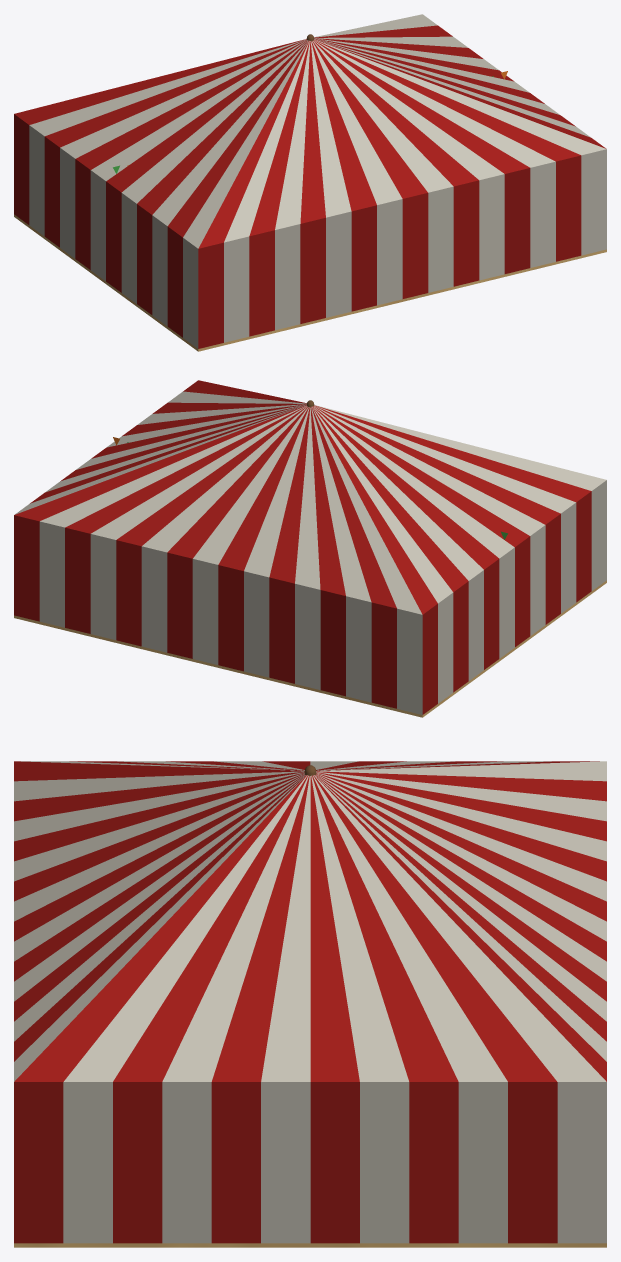
Rendered from AgilityInside.glb.
The picture shows the model from 3 angles, top to bottom: view 1: azimuth 30°, elevation 25°; view 2: azimuth 150°, elevation 25°; view 3: azimuth 270°, elevation 25°; orthographic projection. The views are drawn at different scales.
Parts seen in each view (by area): view 1: CanvasIn, Floor; view 2: CanvasIn, Floor; view 3: CanvasIn, Floor.
Part boxes in pixels (x1,y1,x2,y2): CanvasIn: [14, 14, 606, 348]; Floor: [14, 214, 606, 351]; CanvasIn: [14, 380, 606, 714]; Floor: [14, 580, 606, 717]; CanvasIn: [14, 761, 606, 1243]; Floor: [14, 1243, 606, 1247].
Size of the model in its own units: 6.4 by 3.02 by 5.
